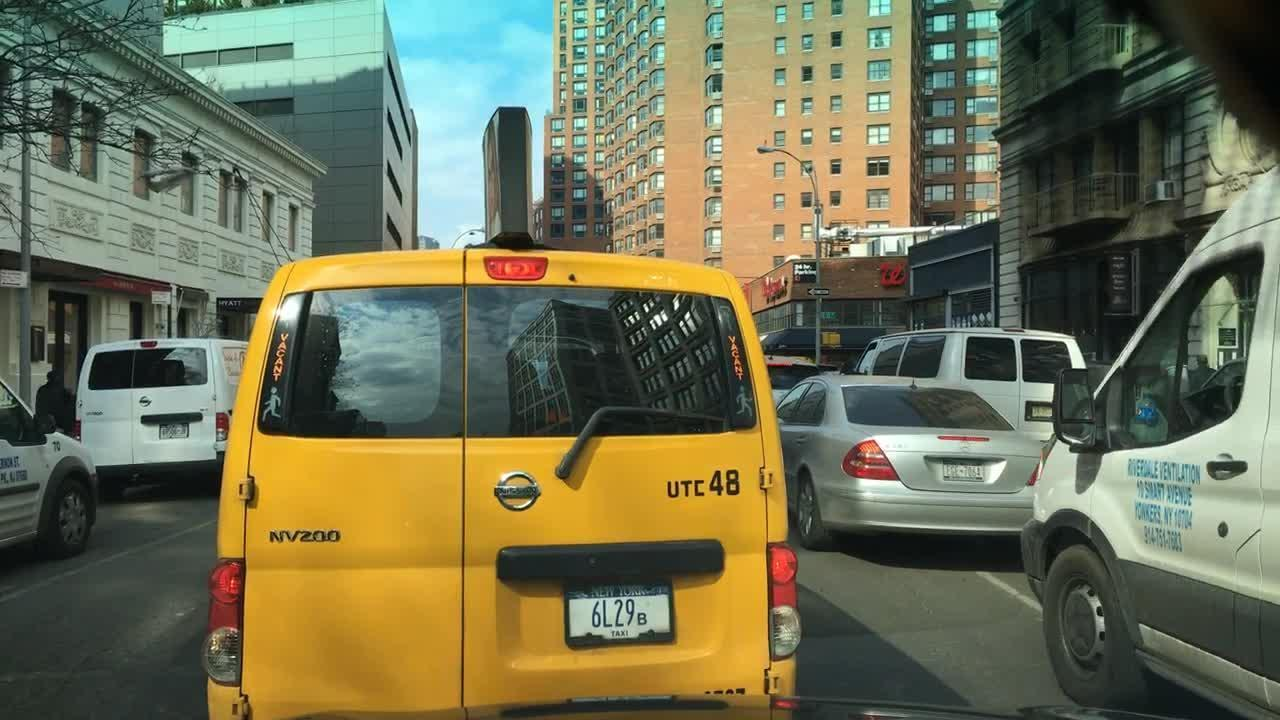Mercedes: (958, 439, 975, 454)
